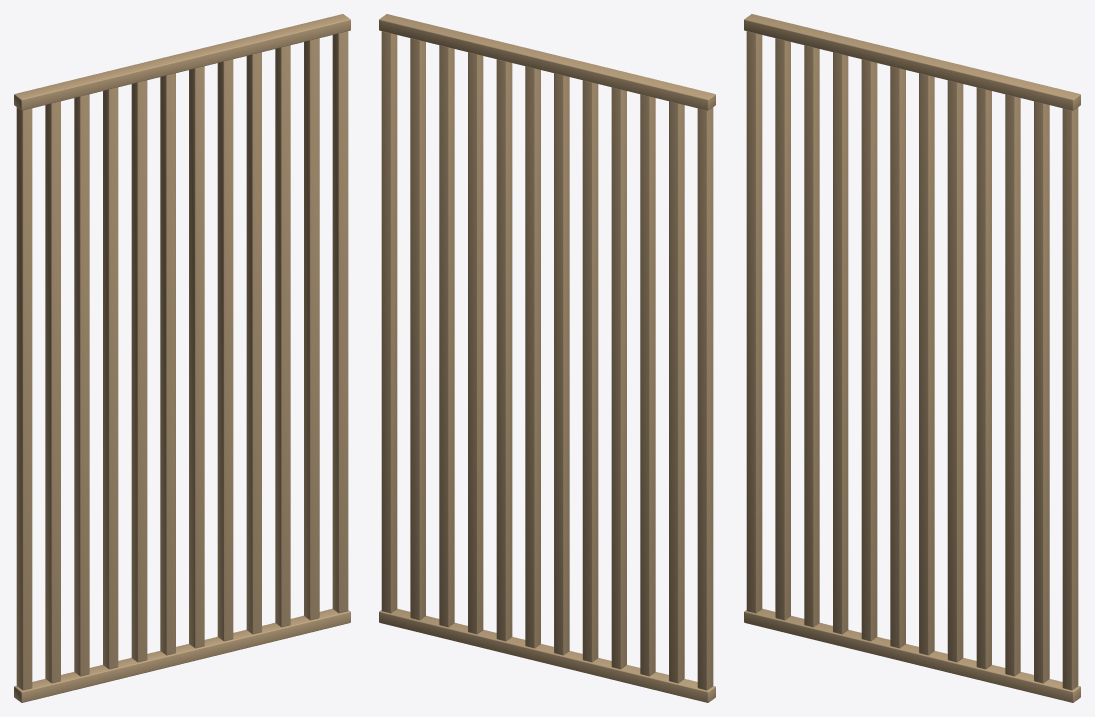
Rendered from partition.glb.
3 views of the same model, side by side, from view 1: azimuth 30°, elevation 25°; view 2: azimuth 150°, elevation 25°; view 3: azimuth 330°, elevation 25° (orthographic).
Parts seen in each view (by area): view 1: slat0, slat11, slat4, slat7, slat3, slat6, slat2, slat5, slat9, slat10, slat8, slat1 (+2 smaller); view 2: slat0, slat11, slat4, slat7, slat3, slat6, slat2, slat5, slat9, slat10, slat8, slat1 (+2 smaller); view 3: slat11, slat0, slat7, slat4, slat5, slat8, slat9, slat1, slat2, slat6, slat3, slat10 (+2 smaller).
Boxes of the visible parts, x1,y1,x2,y2 form: slat0: (16,107,32,690); slat11: (332,31,348,613); slat4: (131,80,147,662); slat7: (217,59,233,641); slat3: (103,87,118,669); slat6: (189,66,204,648); slat2: (74,94,89,676); slat5: (160,73,175,655); slat9: (275,45,290,627); slat10: (304,38,319,620); slat8: (246,52,261,634); slat1: (45,101,60,683); slat0: (697,107,713,690); slat11: (381,31,397,613); slat4: (582,80,598,662); slat7: (496,59,512,641); slat3: (611,87,626,669); slat6: (525,66,540,648); slat2: (640,94,655,676); slat5: (554,73,569,655); slat9: (439,45,454,627); slat10: (410,38,425,620); slat8: (468,52,483,634); slat1: (669,101,684,683); slat11: (1062,107,1078,690); slat0: (746,31,762,613); slat7: (947,80,963,662); slat4: (861,59,877,641); slat5: (890,66,905,648); slat8: (976,87,991,669); slat9: (1005,94,1020,676); slat1: (775,38,790,620); slat2: (804,45,819,627); slat6: (919,73,934,655); slat3: (833,52,848,634); slat10: (1034,101,1049,683).
Bounding box in the file's own units: 1.2 × 2.1 × 0.05.
